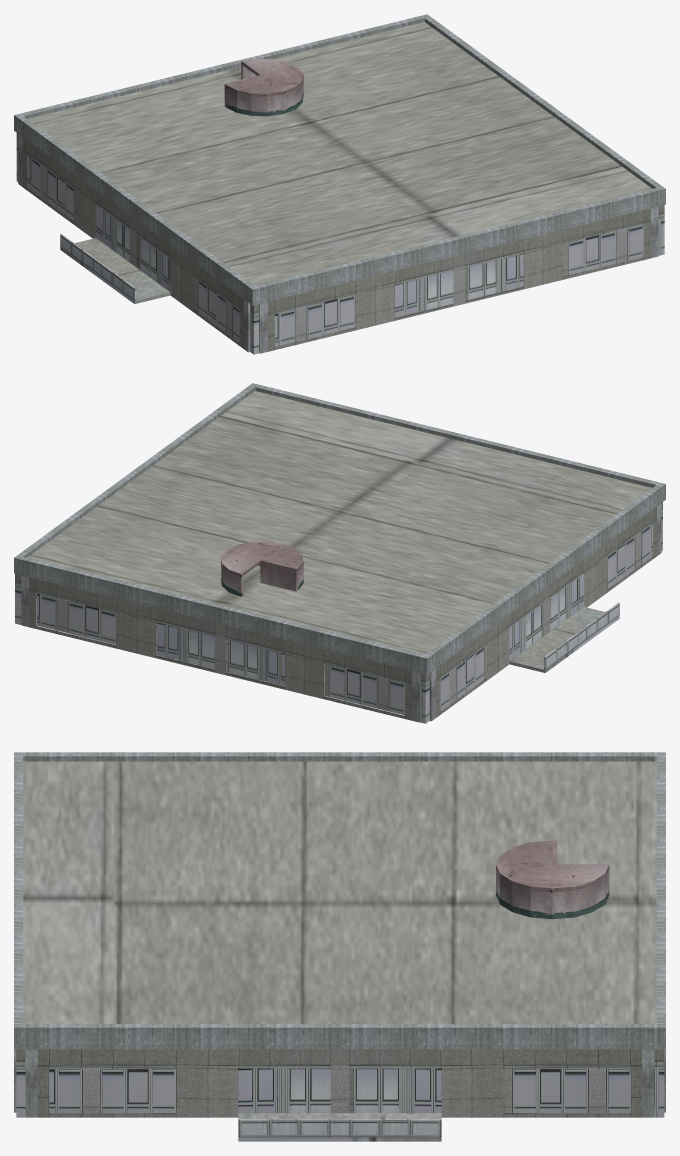
Rendered from BagSS10top_300.fbx.
3 renders of one model, top to bottom at view 1: azimuth 30°, elevation 25°; view 2: azimuth 150°, elevation 25°; view 3: azimuth 270°, elevation 25°, orthographic. The views are drawn at different scales.
Parts seen in each view (by area): view 1: topBox300, topRoof300, topMain300, topStairs300; view 2: topBox300, topRoof300, topMain300, topStairs300; view 3: topBox300, topRoof300, topMain300, topStairs300.
Part boxes in pixels (x1=…): topBox300: x1=16, y1=22, x2=664, y2=354; topRoof300: x1=14, y1=14, x2=665, y2=353; topMain300: x1=22, y1=137, x2=650, y2=351; topStairs300: x1=224, y1=58, x2=303, y2=116; topBox300: x1=15, y1=391, x2=662, y2=723; topRoof300: x1=14, y1=383, x2=665, y2=722; topMain300: x1=29, y1=506, x2=657, y2=720; topStairs300: x1=221, y1=541, x2=303, y2=596; topBox300: x1=16, y1=761, x2=664, y2=1117; topRoof300: x1=14, y1=752, x2=665, y2=1117; topMain300: x1=37, y1=1049, x2=642, y2=1141; topStairs300: x1=496, y1=840, x2=609, y2=919.
Size of the model in its own units: 51.84 by 8.67 by 44.16.
